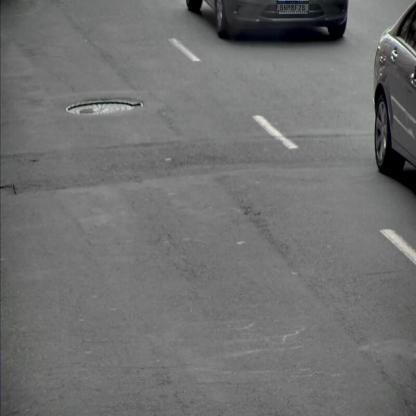PlacaM: (277, 0, 309, 12)
